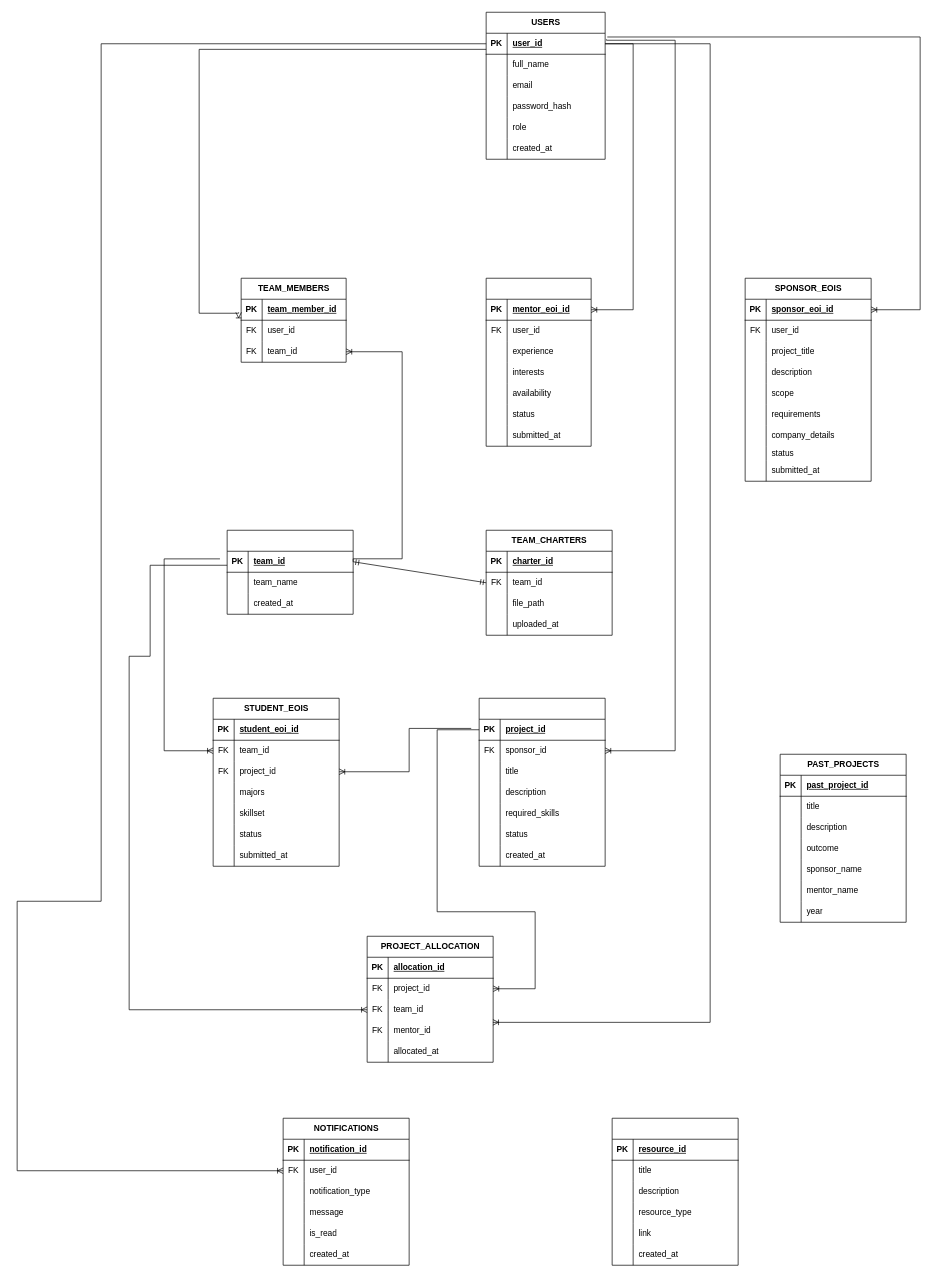
The diagram is 938 pixels wide and 1278 high, and some of its shapes have lost their labels. The shapes that lost their labels are listed below. From the top down, each one's box as (x1, y1, x2, y2) in pixels, then its label:
(485, 278, 591, 446): MENTOR_EOIS
(226, 530, 353, 614): TEAMS
(478, 698, 605, 866): PROJECTS
(611, 1118, 738, 1265): RESOURCES
